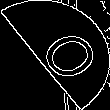O_SW: (17, 23, 93, 87)
